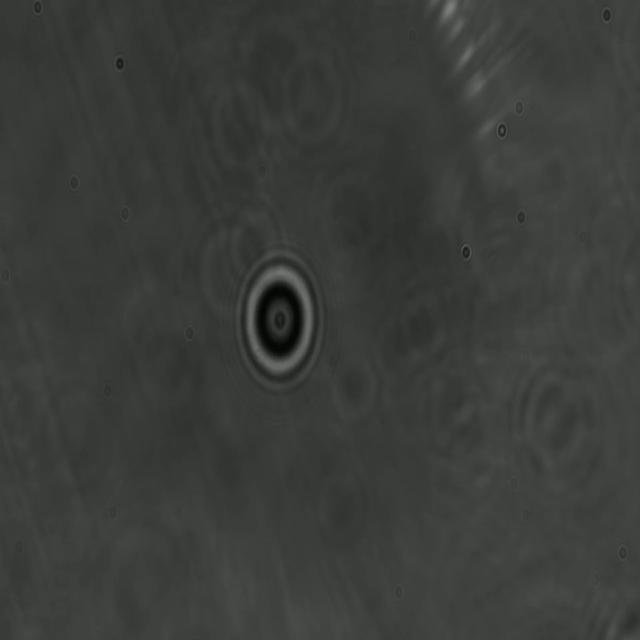LCELL: (233, 244, 324, 395)
